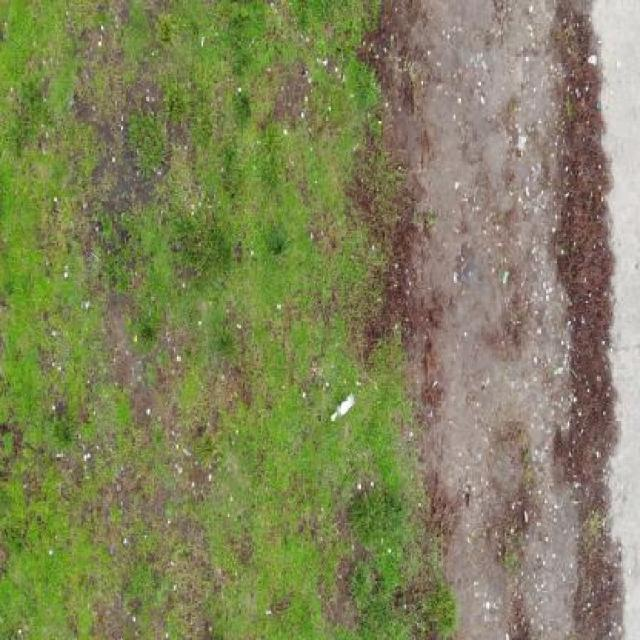Garbage: (331, 391, 356, 421), (517, 133, 528, 158)
